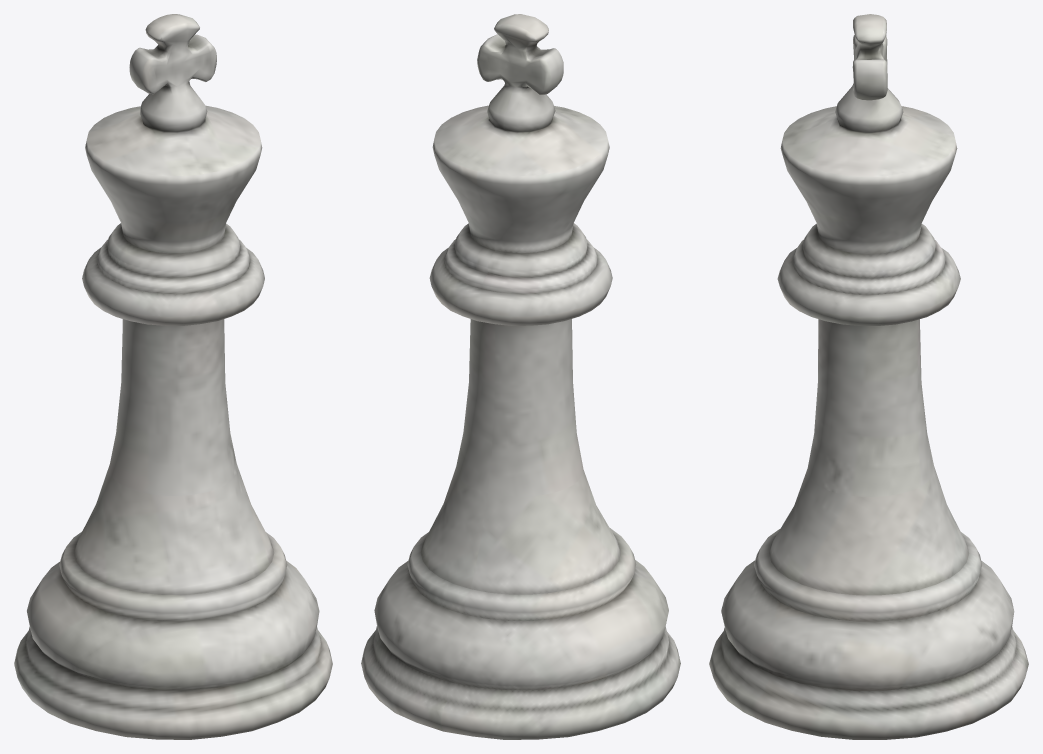
The model's file is chess_set__king.glb.
3 views of the same model, side by side, from view 1: azimuth 30°, elevation 25°; view 2: azimuth 150°, elevation 25°; view 3: azimuth 270°, elevation 25° (orthographic).
Parts seen in each view (by area): view 1: chess_set_pieces_white; view 2: chess_set_pieces_white; view 3: chess_set_pieces_white.
Boxes of the visible parts, x1=… form: chess_set_pieces_white: x1=14, y1=14, x2=332, y2=739; chess_set_pieces_white: x1=361, y1=14, x2=680, y2=739; chess_set_pieces_white: x1=709, y1=14, x2=1028, y2=739.
Size of the model in its own units: 0.0415 by 0.0949 by 0.0417.
Materials: 1 (1 with a texture image).
